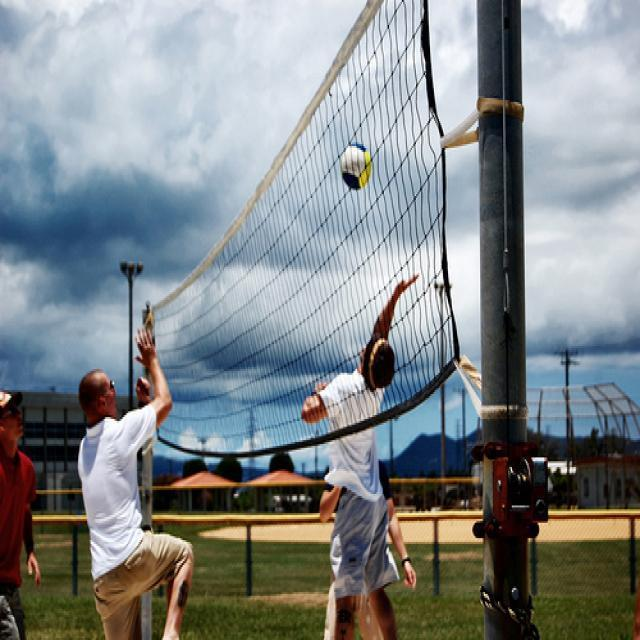volleyball: (340, 144, 372, 188)
